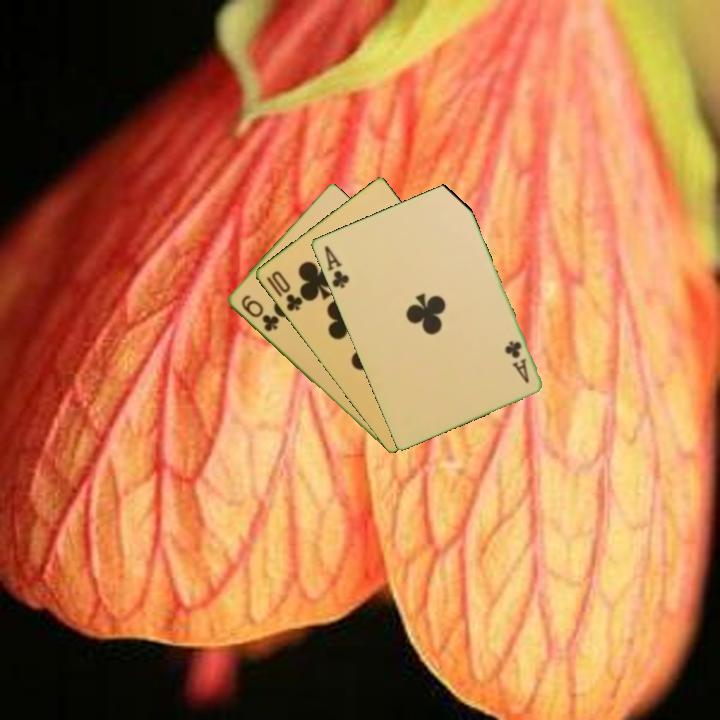10c: (262, 267, 305, 314)
6c: (237, 291, 282, 334)
Ac: (320, 242, 352, 291), (501, 337, 532, 386)
